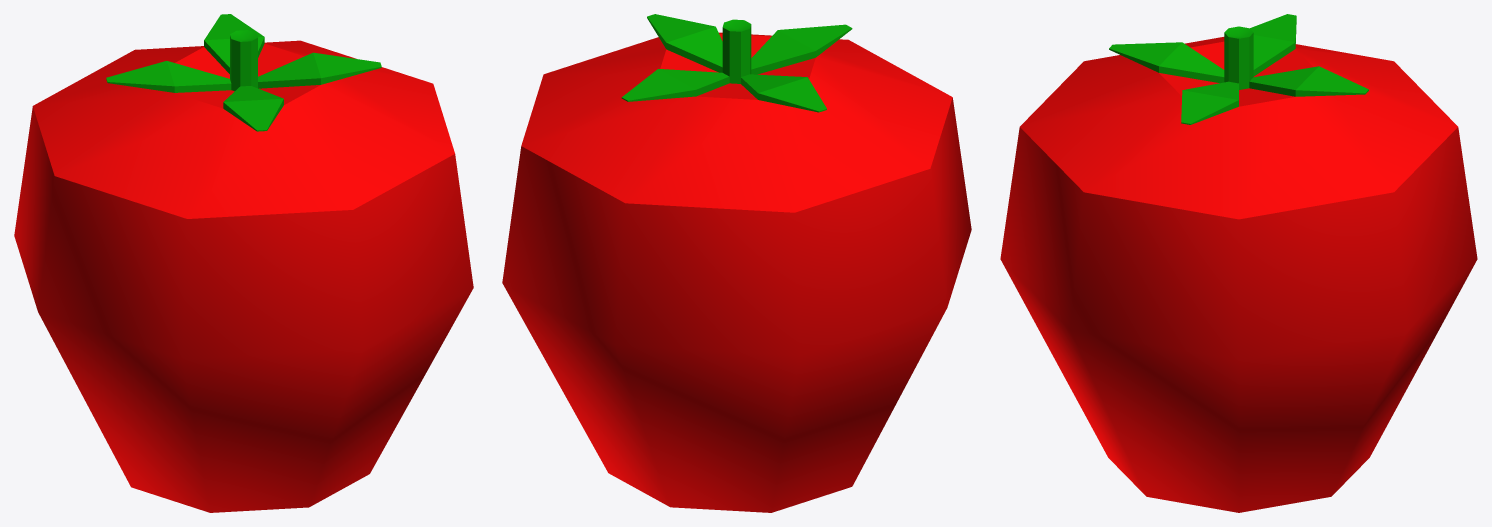
File: Produce_Tomapple.fbx
The picture shows the model from 3 angles, left to right: view 1: azimuth 30°, elevation 25°; view 2: azimuth 150°, elevation 25°; view 3: azimuth 270°, elevation 25°; orthographic projection. The views are drawn at different scales.
Visible parts, largest first — view 1: Sphere001; view 2: Sphere001; view 3: Sphere001.
Boxes of the visible parts, x1=… form: Sphere001: x1=14, y1=14, x2=473, y2=512; Sphere001: x1=502, y1=14, x2=971, y2=512; Sphere001: x1=1000, y1=14, x2=1477, y2=512.
Bounding box in the file's own units: 5.67 × 5.58 × 5.67.
